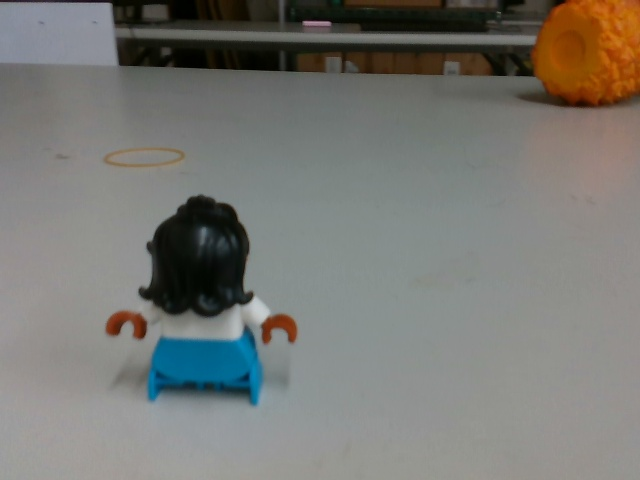people: (104, 188, 303, 407)
